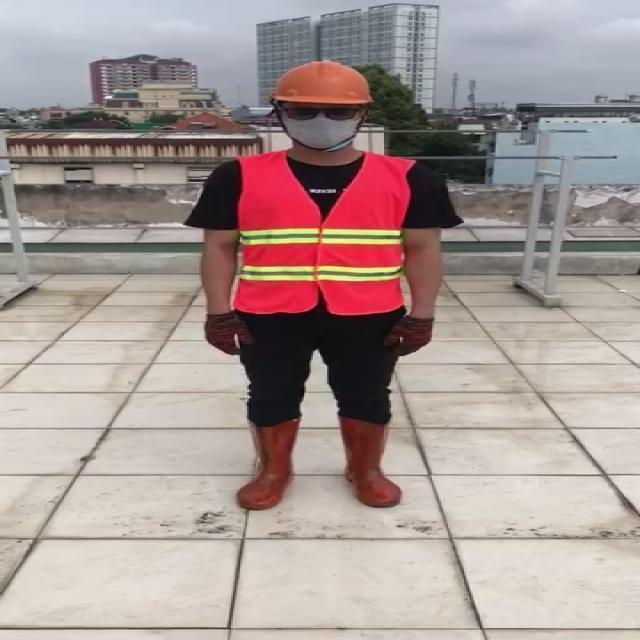gloves: (384, 314, 438, 359), (202, 309, 254, 355)
goggles: (280, 105, 359, 124)
helmet: (268, 59, 371, 108)
safety_vest: (229, 152, 412, 312)
